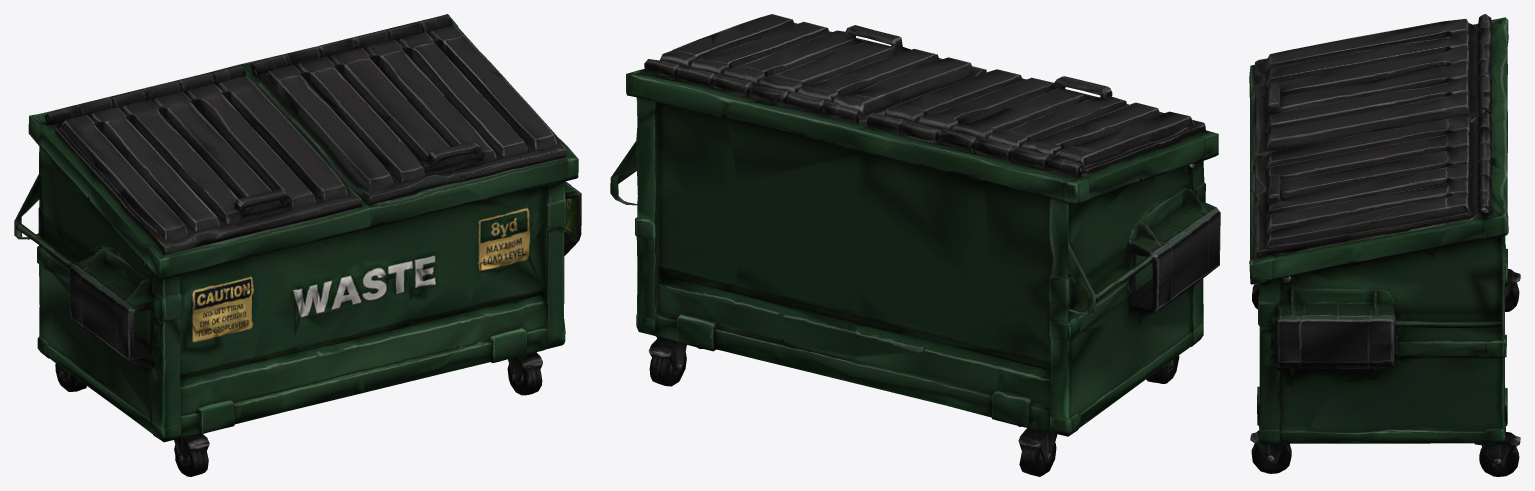
Rendered from veh-dumpster.glb.
3 views of the same model, side by side, from view 1: azimuth 30°, elevation 25°; view 2: azimuth 150°, elevation 25°; view 3: azimuth 270°, elevation 25° (orthographic). The views are drawn at different scales.
Parts seen in each view (by area): view 1: tripo_node_16e1cdf8-5068-4a0e-893b-57c24f947500; view 2: tripo_node_16e1cdf8-5068-4a0e-893b-57c24f947500; view 3: tripo_node_16e1cdf8-5068-4a0e-893b-57c24f947500.
Boxes of the visible parts, <box> form: tripo_node_16e1cdf8-5068-4a0e-893b-57c24f947500: <box>14,14,581,476</box>; tripo_node_16e1cdf8-5068-4a0e-893b-57c24f947500: <box>610,14,1220,476</box>; tripo_node_16e1cdf8-5068-4a0e-893b-57c24f947500: <box>1249,14,1520,476</box>.
Size of the model in its own units: 0.9798 by 0.5969 by 0.5187.
Materials: 1 (1 with a texture image).
